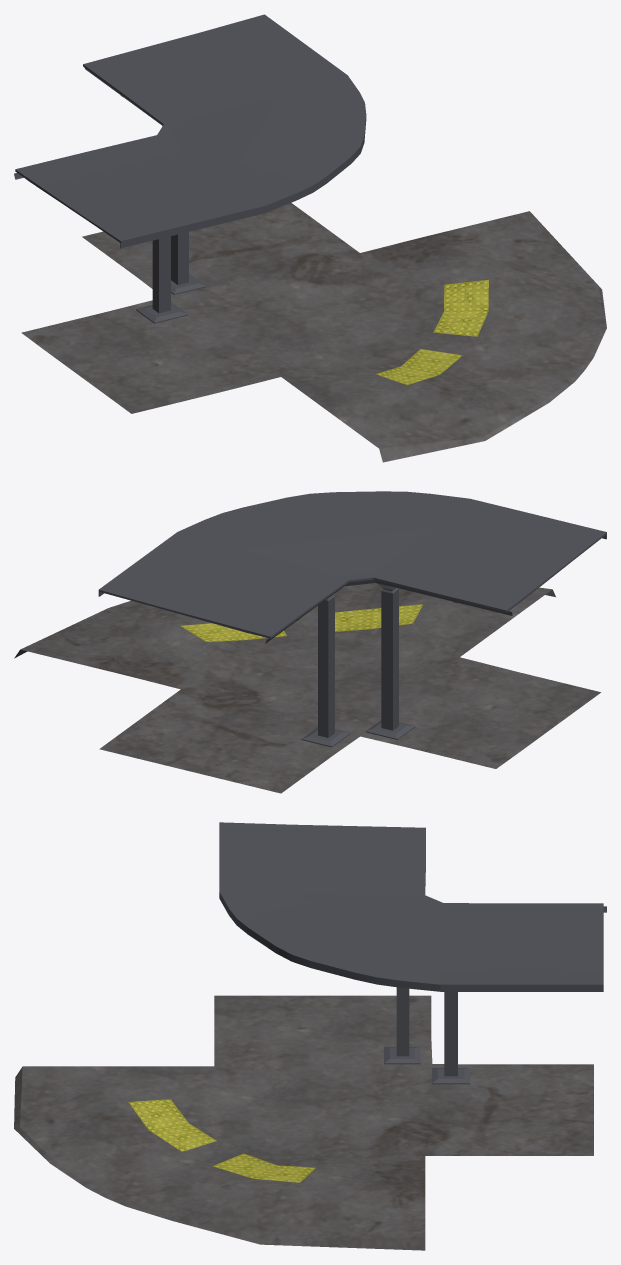
File: ShelterTurn.fbx
3 renders of one model, top to bottom at view 1: azimuth 30°, elevation 25°; view 2: azimuth 150°, elevation 25°; view 3: azimuth 270°, elevation 25°, orthographic. The views are drawn at different scales.
Visible parts, largest first — view 1: ShelterTurn_Floor, ShelterTurn_Rooftop, Pillar, ShelterTurn_PillarEndEdge, Pillar1; view 2: ShelterTurn_Floor, ShelterTurn_Rooftop, Pillar, Pillar1, ShelterTurn_PillarEdge; view 3: ShelterTurn_Floor, ShelterTurn_Rooftop, ShelterTurn_PillarEndEdge, Pillar1, Pillar.
Part boxes in pixels (bbox=[...]): ShelterTurn_Floor: bbox=[21, 203, 606, 462]; ShelterTurn_Rooftop: bbox=[15, 14, 366, 243]; Pillar: bbox=[136, 236, 188, 323]; ShelterTurn_PillarEndEdge: bbox=[120, 116, 366, 248]; Pillar1: bbox=[171, 232, 206, 294]; ShelterTurn_Floor: bbox=[14, 583, 600, 793]; ShelterTurn_Rooftop: bbox=[98, 491, 606, 638]; Pillar: bbox=[365, 583, 415, 739]; Pillar1: bbox=[301, 587, 350, 747]; ShelterTurn_PillarEdge: bbox=[265, 579, 512, 643]; ShelterTurn_Floor: bbox=[14, 995, 593, 1250]; ShelterTurn_Rooftop: bbox=[219, 822, 603, 986]; ShelterTurn_PillarEndEdge: bbox=[219, 894, 603, 991]; Pillar1: bbox=[432, 992, 470, 1084]; Pillar: bbox=[384, 987, 420, 1064].
Size of the model in its own units: 862 by 293 by 863.
2 materials, 2 textured.
